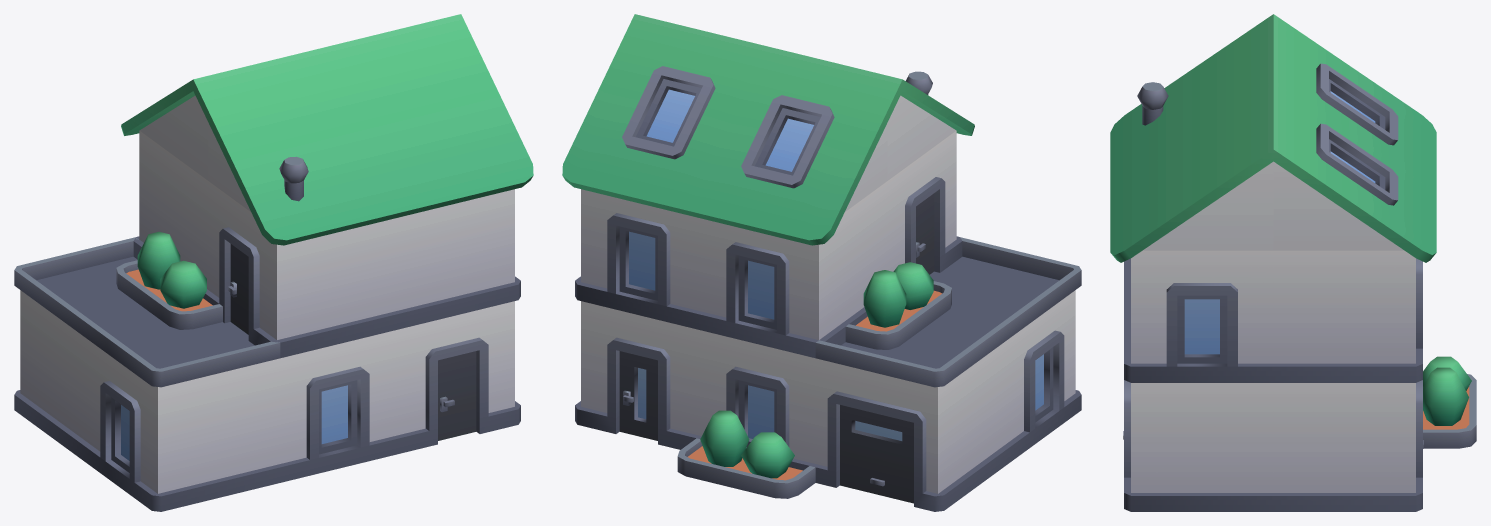
File: k-city-kit-suburban-building-type-o.glb
The picture shows the model from 3 angles, left to right: view 1: azimuth 30°, elevation 25°; view 2: azimuth 150°, elevation 25°; view 3: azimuth 270°, elevation 25°; orthographic projection. The views are drawn at different scales.
Visible parts, largest first — view 1: building-type-o; view 2: building-type-o; view 3: building-type-o.
Part boxes in pixels (box(x1,y1,x2,y2)): building-type-o: box(14, 14, 533, 511); building-type-o: box(562, 14, 1081, 511); building-type-o: box(1110, 14, 1476, 511).
Size of the model in its own units: 1.27 by 1.14 by 1.03.
Materials: 1 (1 with a texture image).
